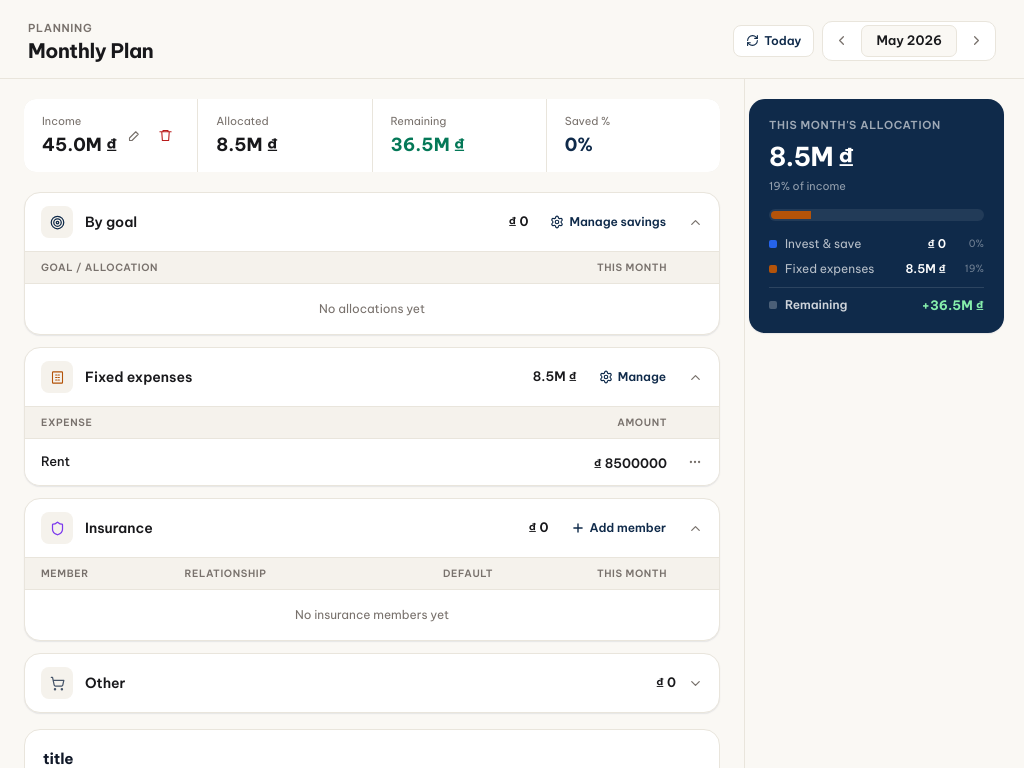
it: DesktopPlanningView — kebab closes on scroll › closes an open kebab menu when the page scrolls
The width and height of the screenshot is (1024, 768).
Click the button named "More options".
click(695, 462)  # box left=683, top=450, right=707, bottom=474
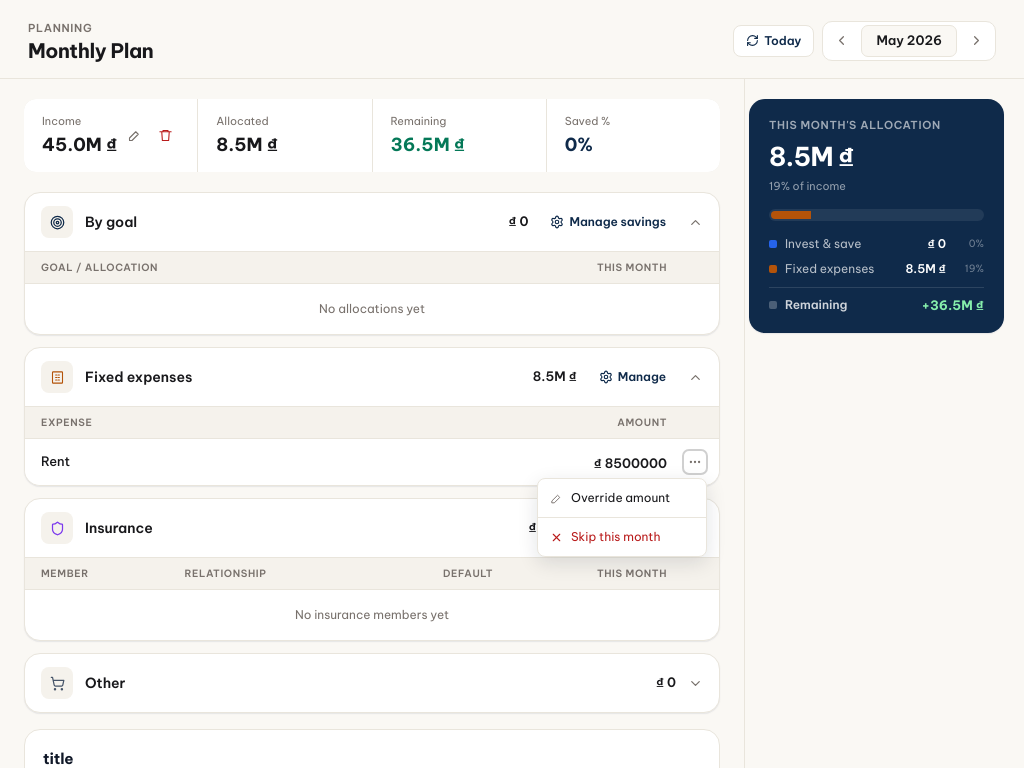
Expected: the menu is shown, left=537, top=478, right=707, bottom=557
